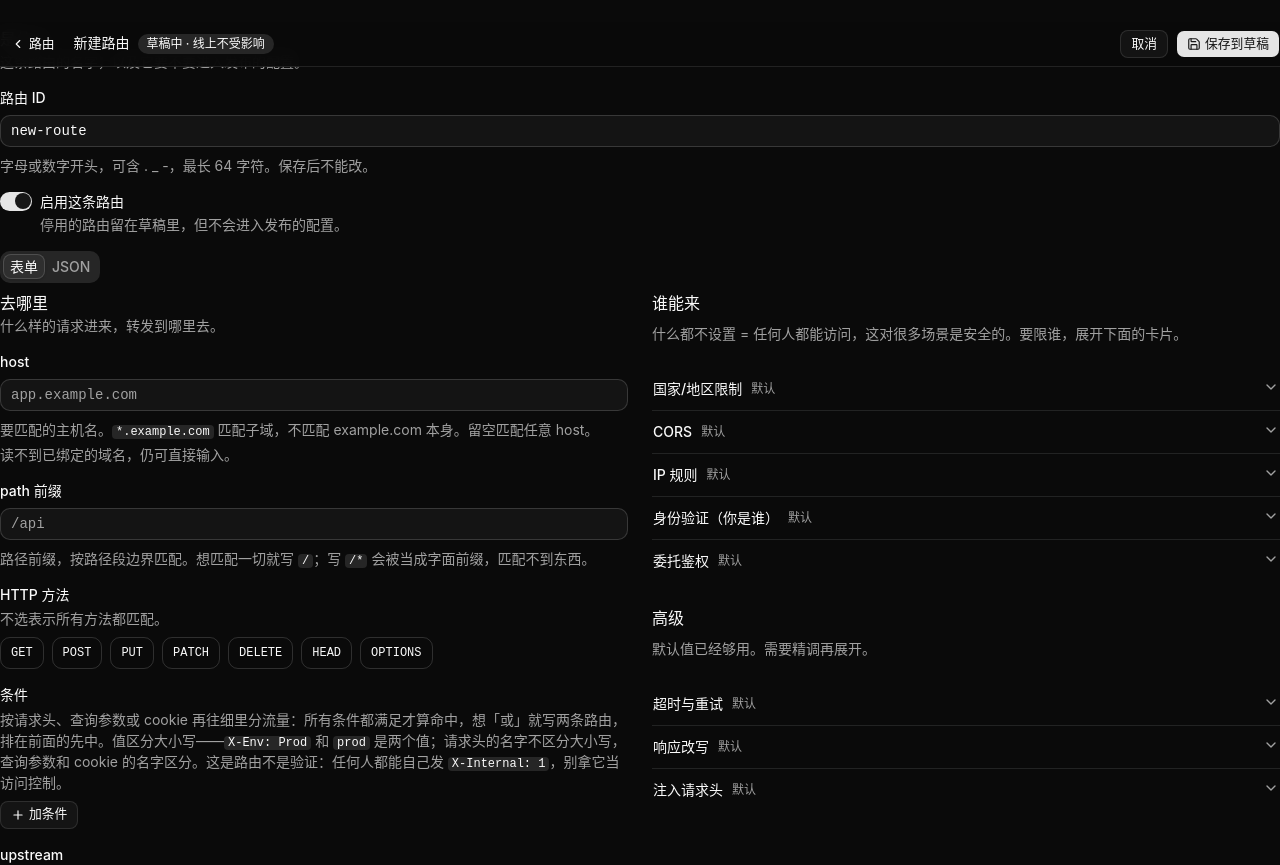
Test: RouteEditor 错误可见性（重设计） › 越界数字：timing 卡亮需修正徽章，页脚摘要点名第一条错误，保存禁用
The width and height of the screenshot is (1280, 865).
Click the button "超时与重试 默认" at (688, 703), box [652,682,1279,724]
(page scrolled)
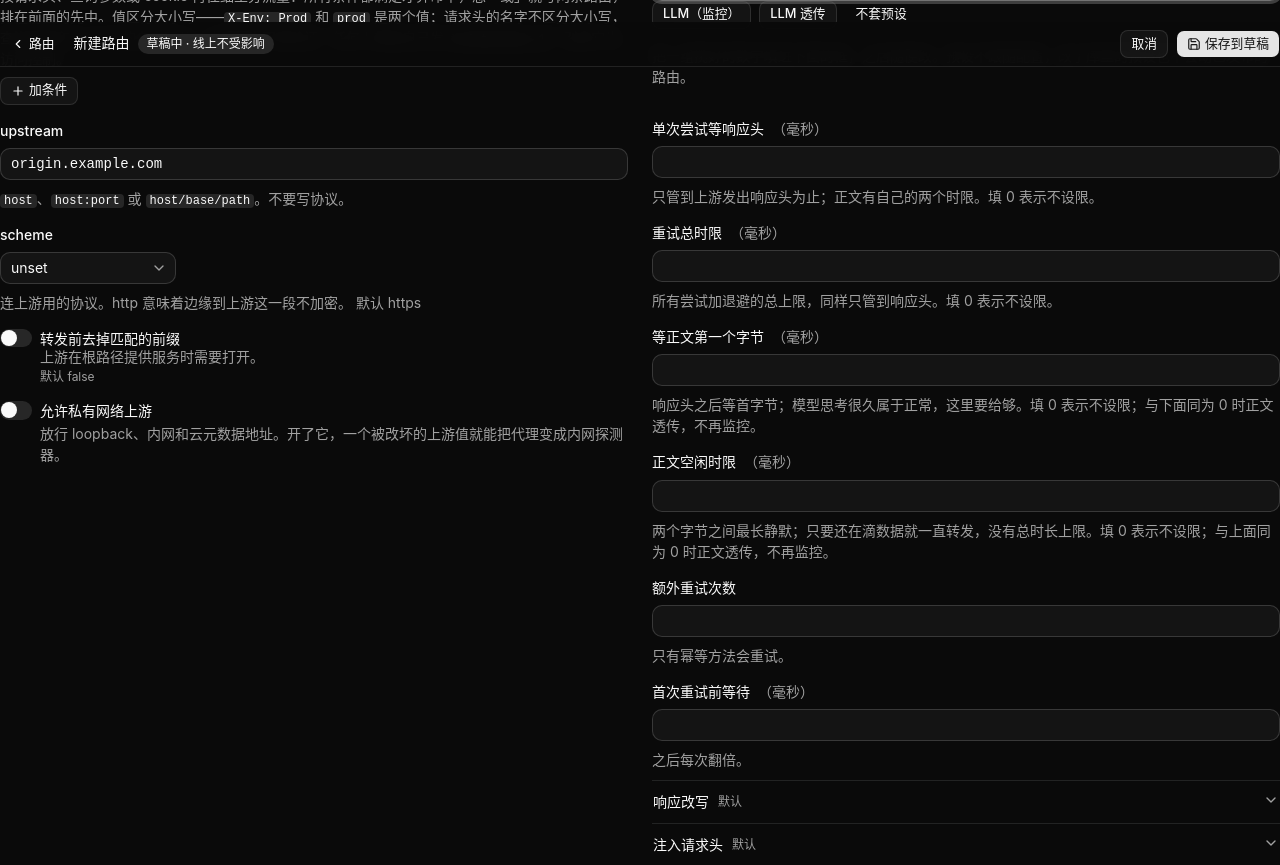
Type "500" into the number field labelled "额外重试次数" at (966, 621), box [652,605,1279,637]
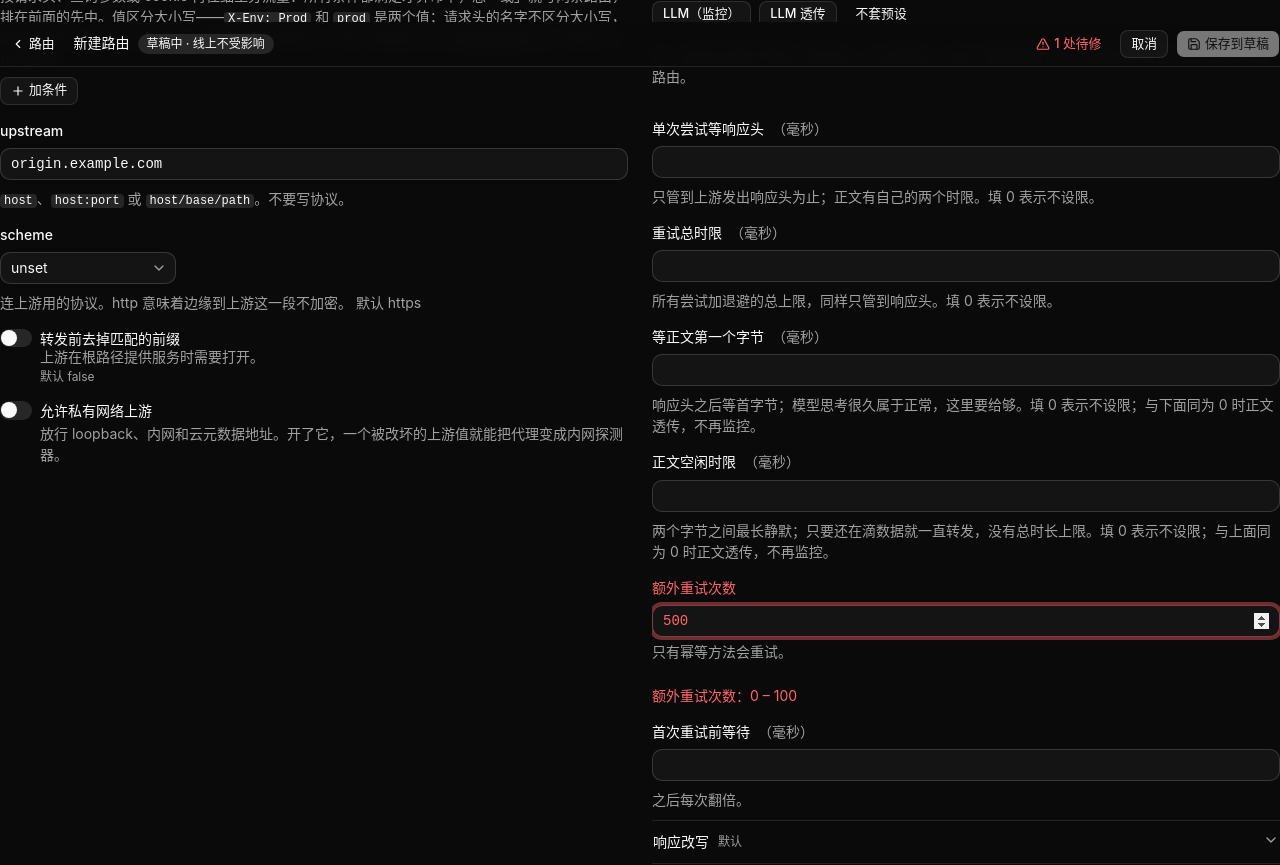
Click the button "1 处待修" at (1069, 44), box [1025,30,1112,58]
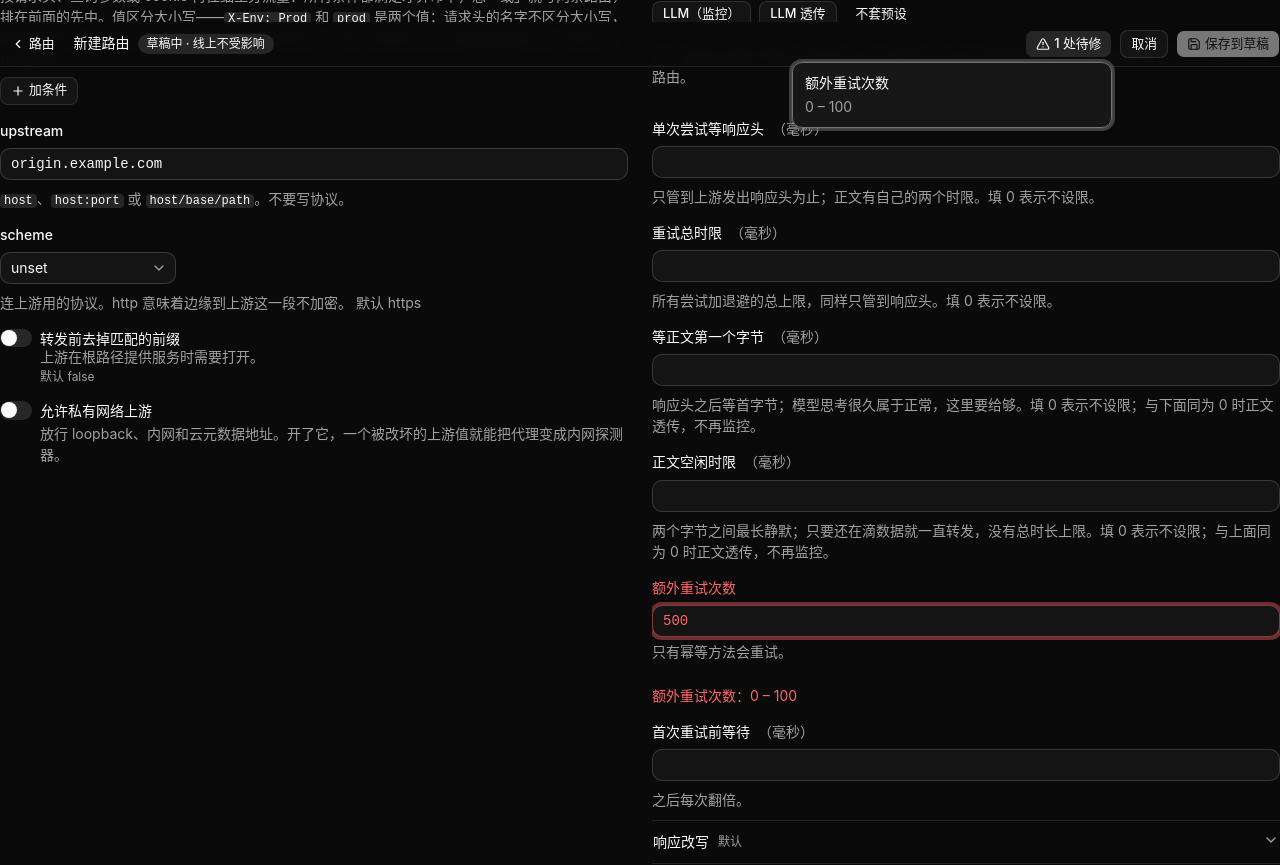
Now the text "额外重试次数：0 – 100" is shown, box [652,687,797,704]
Now the button "保存到草稿" is disabled, box [1176,30,1279,58]
Now the text "0 – 100" is shown, box [805,98,852,115]
